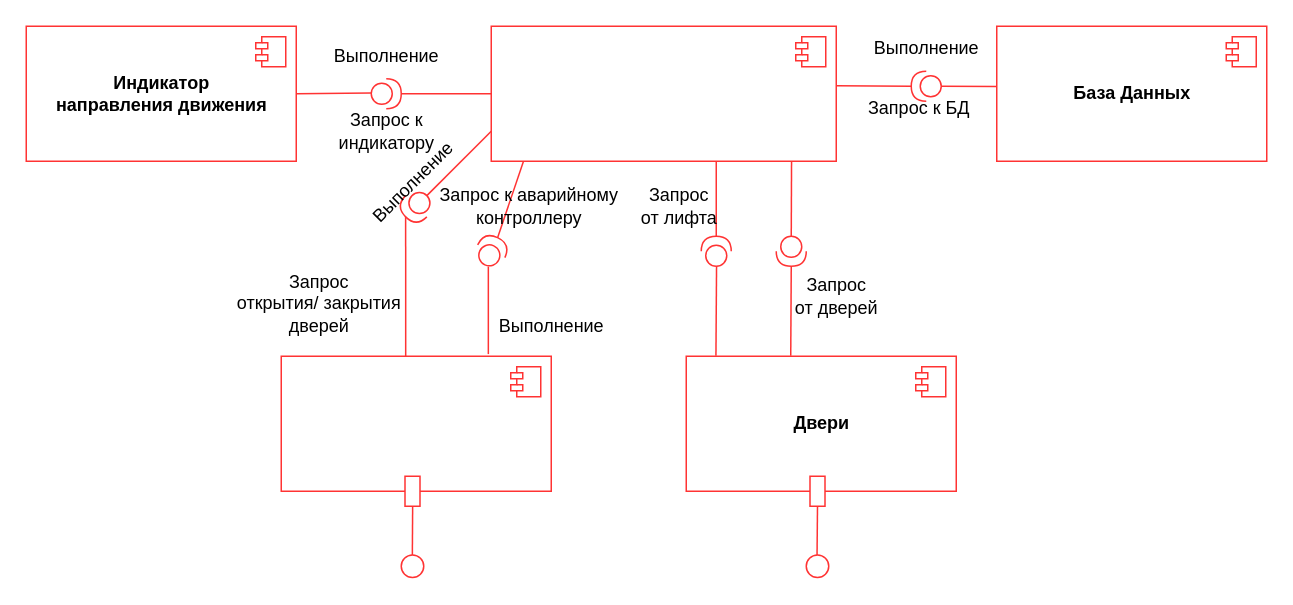
This 1293x605 diagram has some shape labels left out. The shapes that lost their labels are listed below. From the top down, each one's centre as x and y in pixels, then its label:
At point 663,93: "Контроллер Лифта".
At point 415,423: "Аварийный контроллер".
